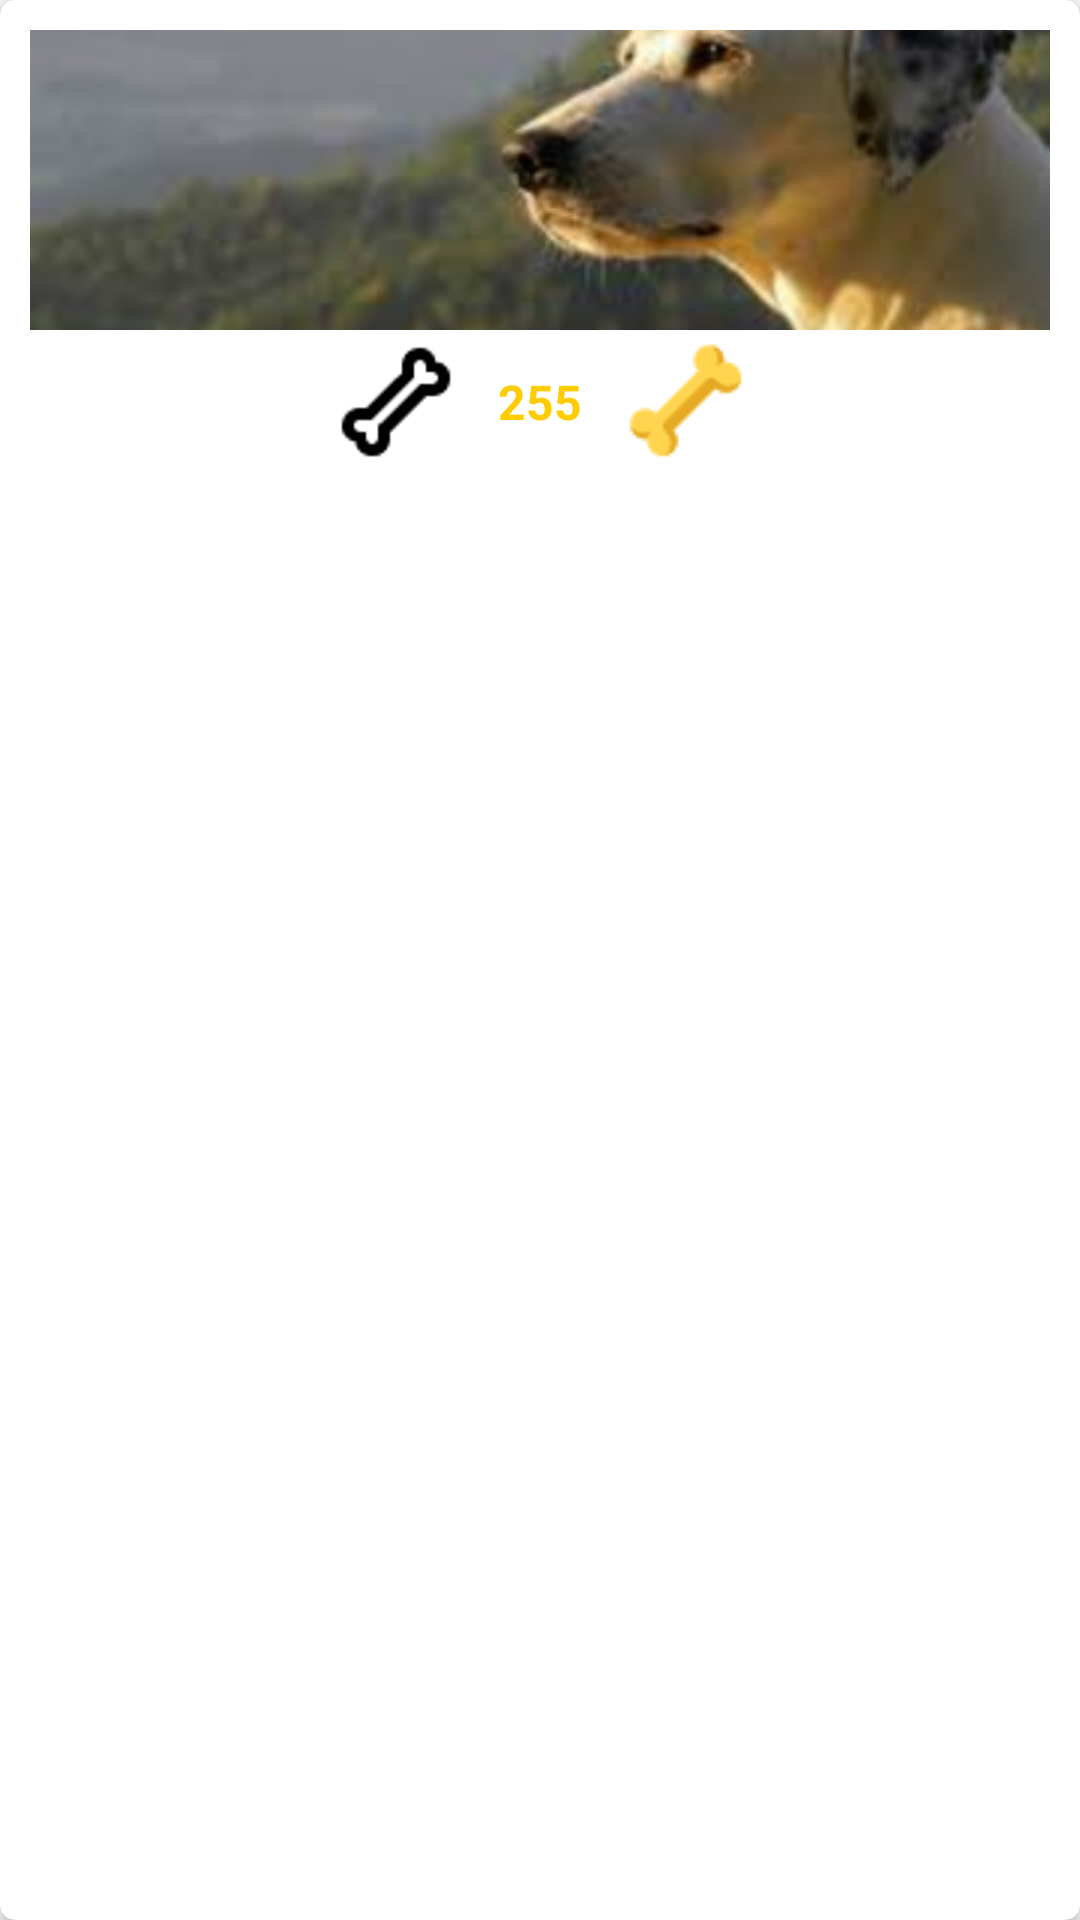

Where icons sit on this 1080x1920 app screen, as (x1, y1, x2, y2):
hueso del perro: (629, 344, 742, 457), (341, 347, 451, 457)
